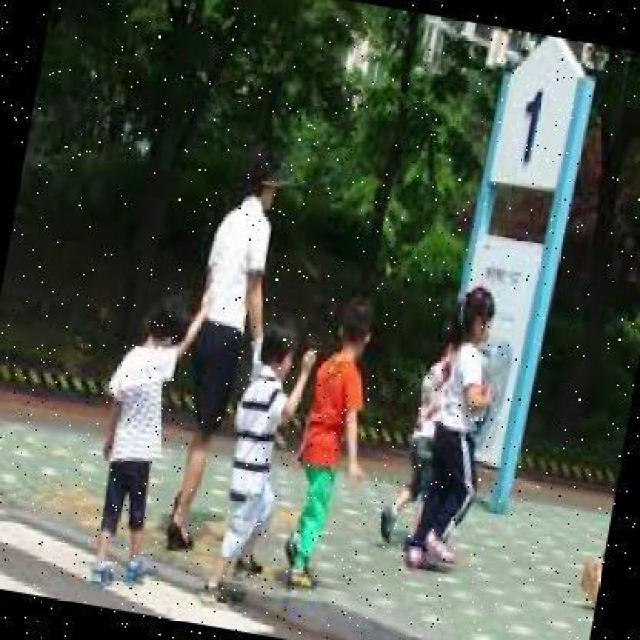Person: (161, 137, 293, 558), (78, 290, 205, 593), (277, 292, 388, 592), (204, 315, 314, 607), (411, 282, 512, 576)
